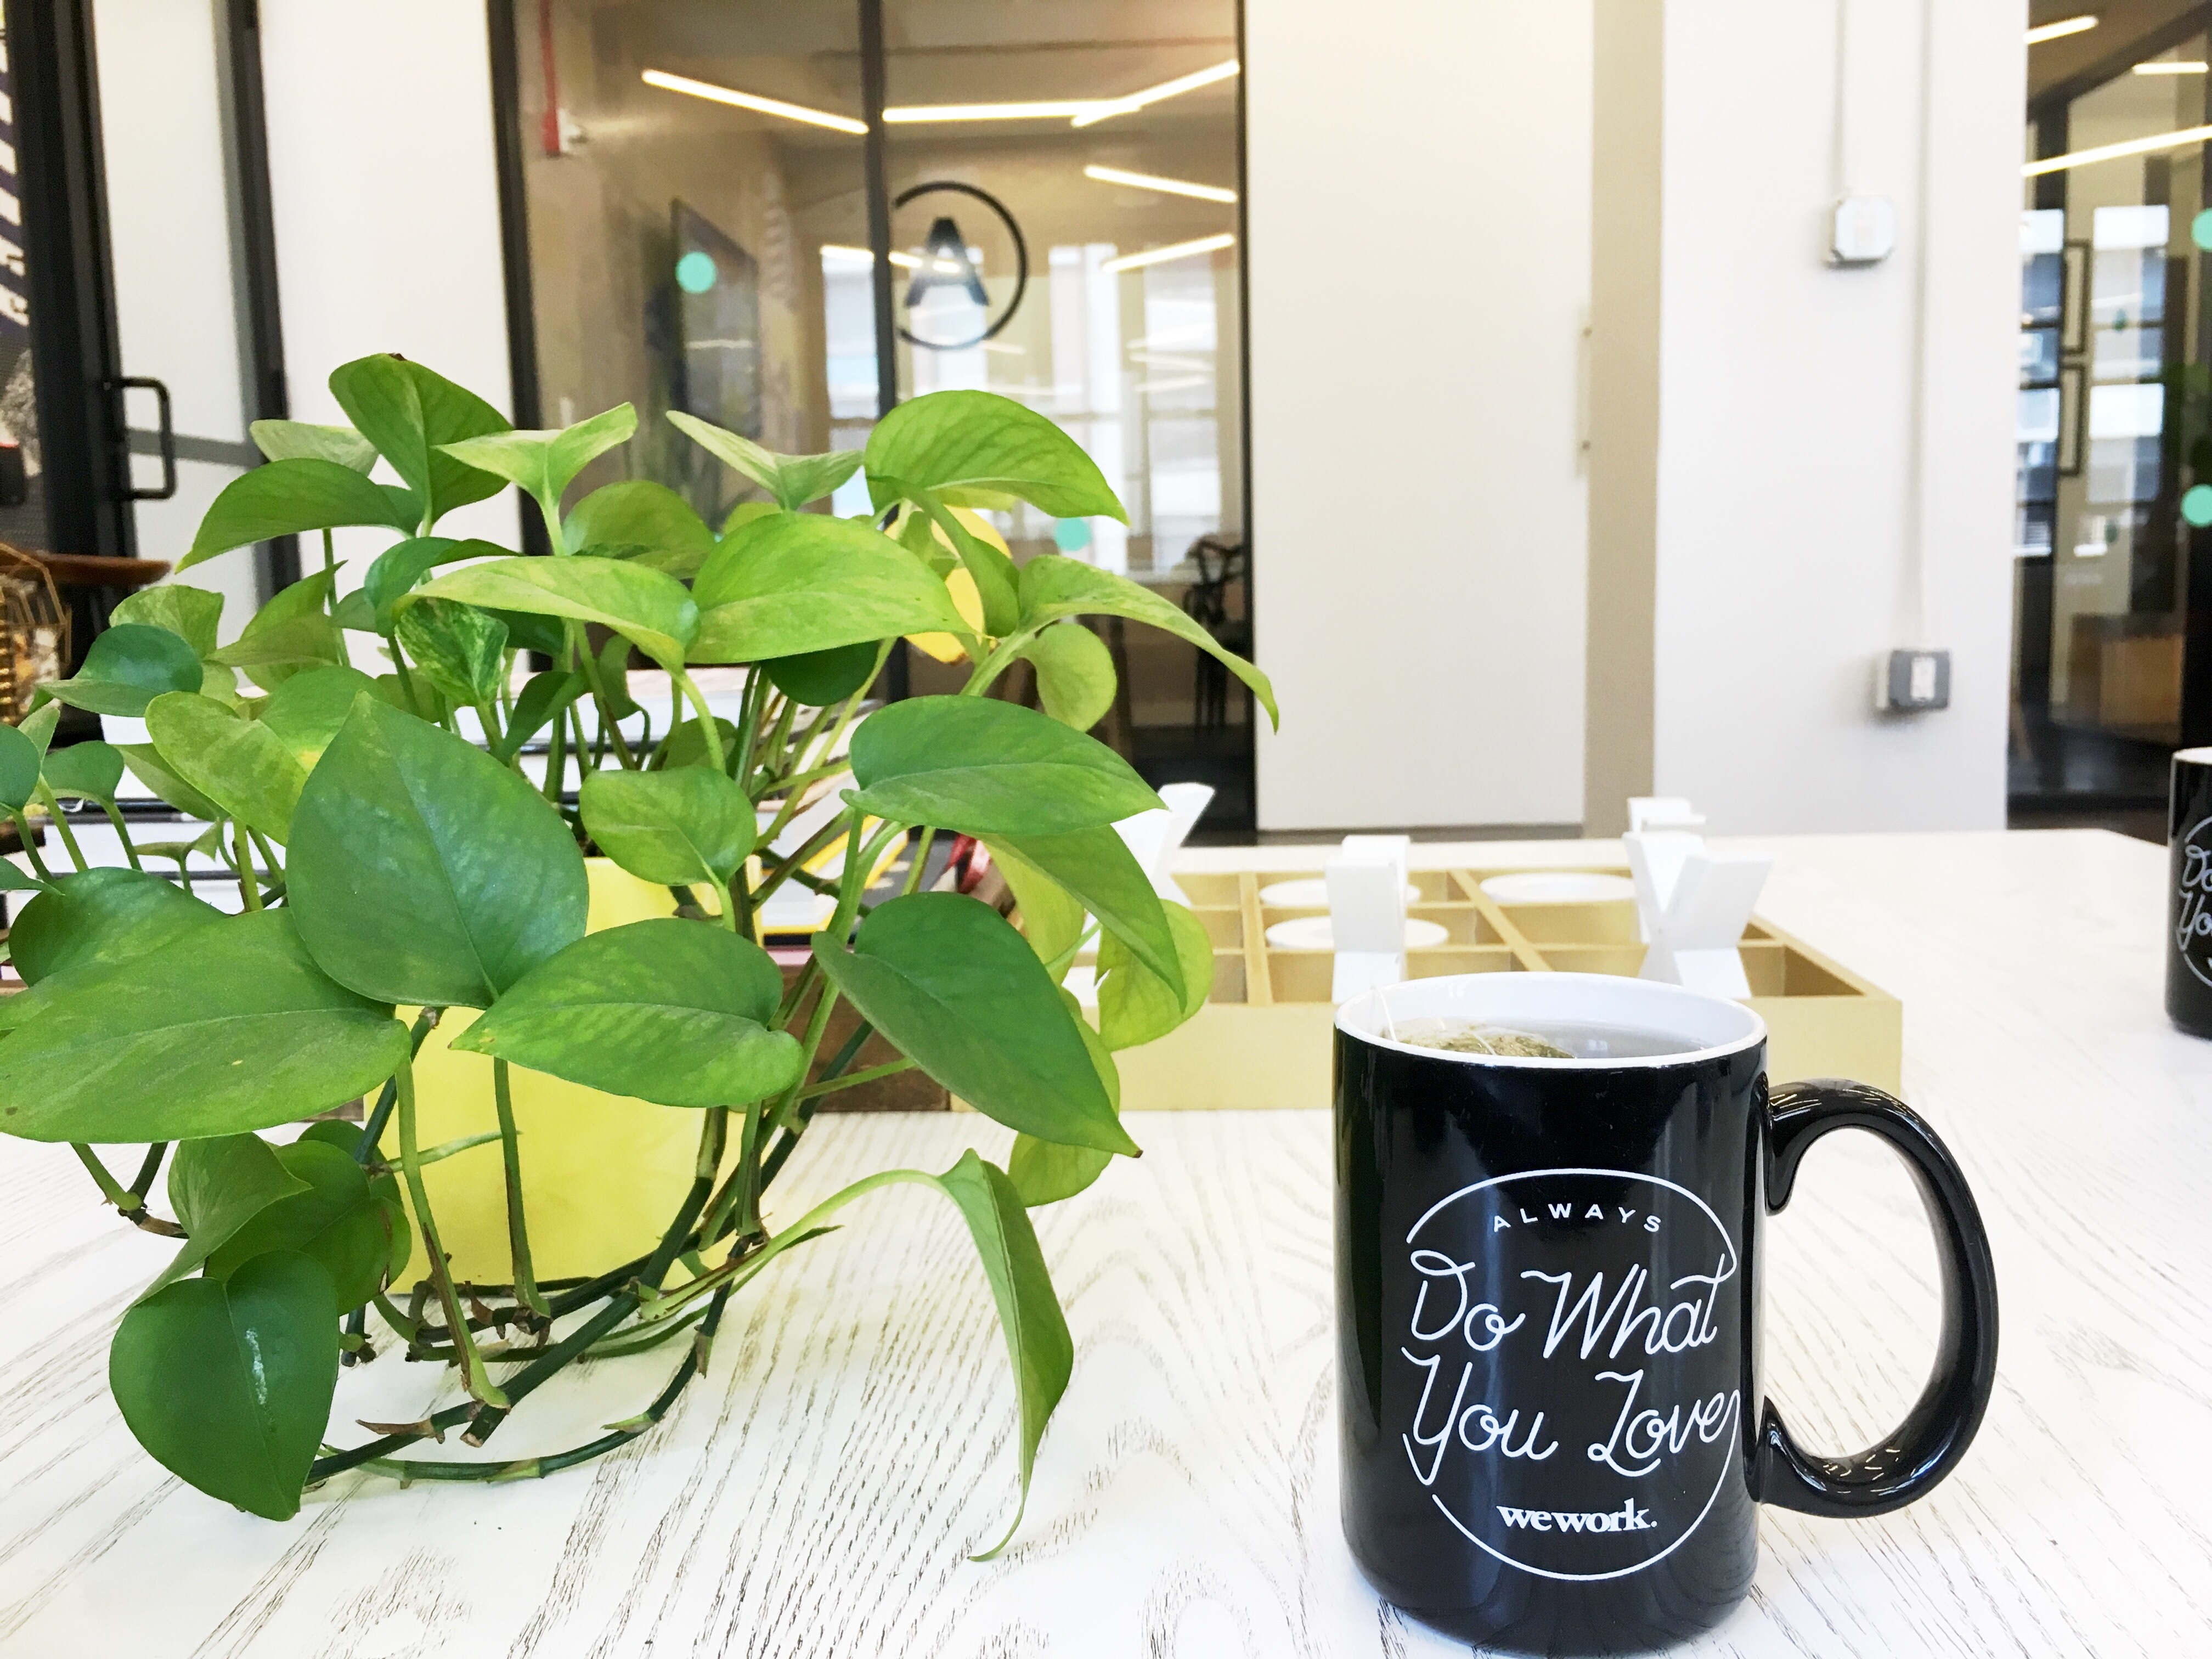wework: (1493, 1495, 1651, 1534)
